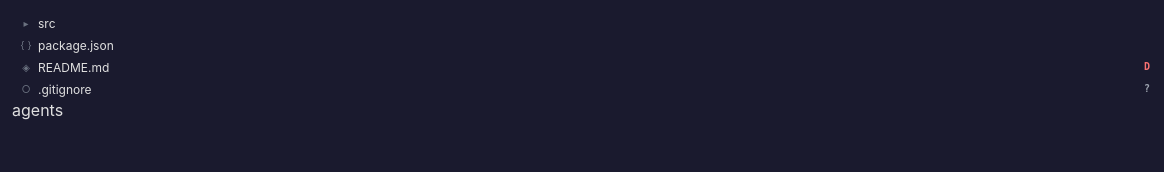
Test: FileTree › double-click to open in editor › double-clicking a file switches to editor view
Expected: the text with test id "feature-tab" reads "agents", [12,100,63,120]
Double-click the text "package.json": [76, 45] box [38,38,114,52]
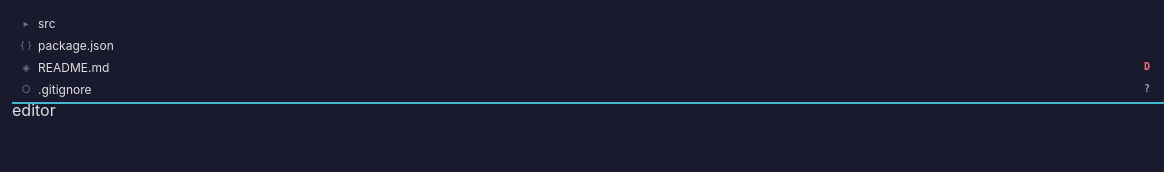
Expected: the text with test id "feature-tab" reads "editor", [12,100,56,120]
